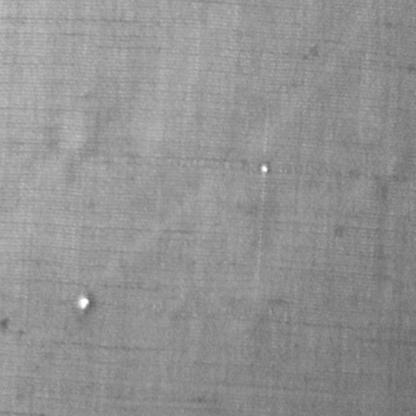hole: (76, 294, 90, 312), (259, 162, 269, 174)
